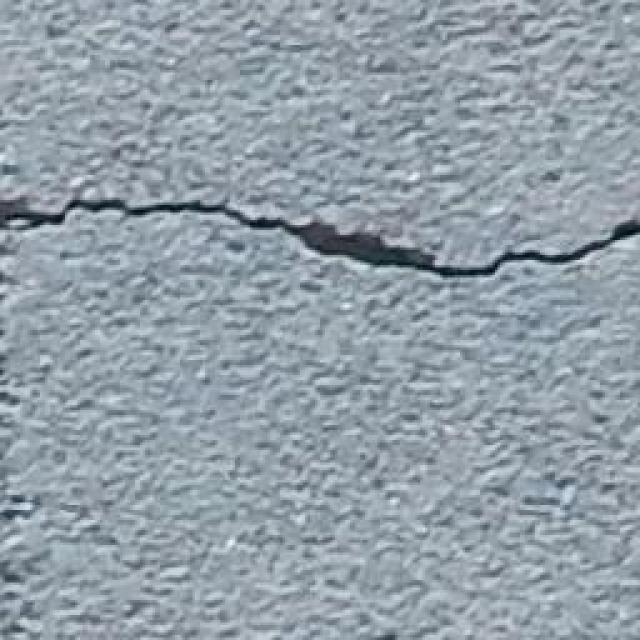concrete-crack: (0, 199, 638, 279)
